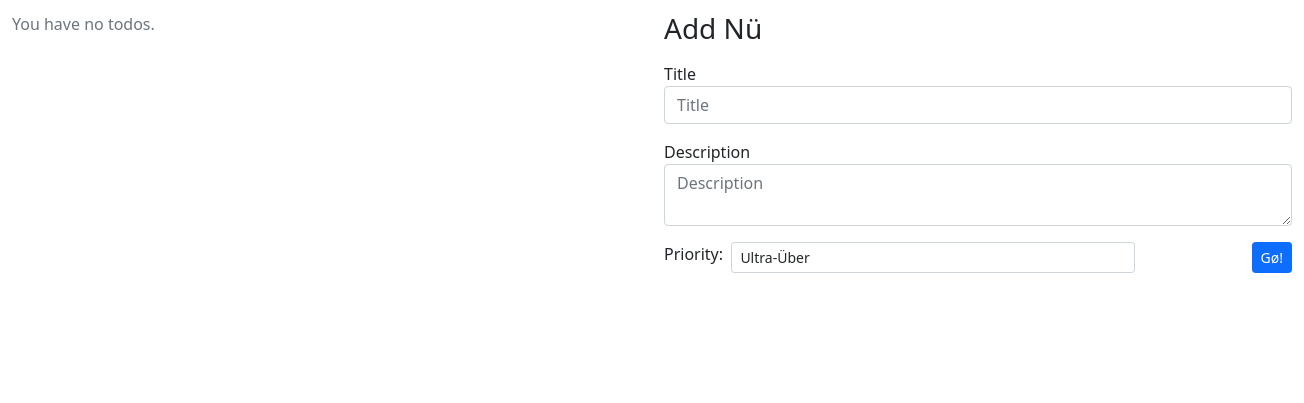
Test: TodoApp › adds new todo
Expected: the text "You have no todos." is shown, x1=12 y1=13 x2=155 y2=35
Type "New Todo" into the field labelled "Title" at (978, 105), box x1=664 y1=86 x2=1292 y2=124
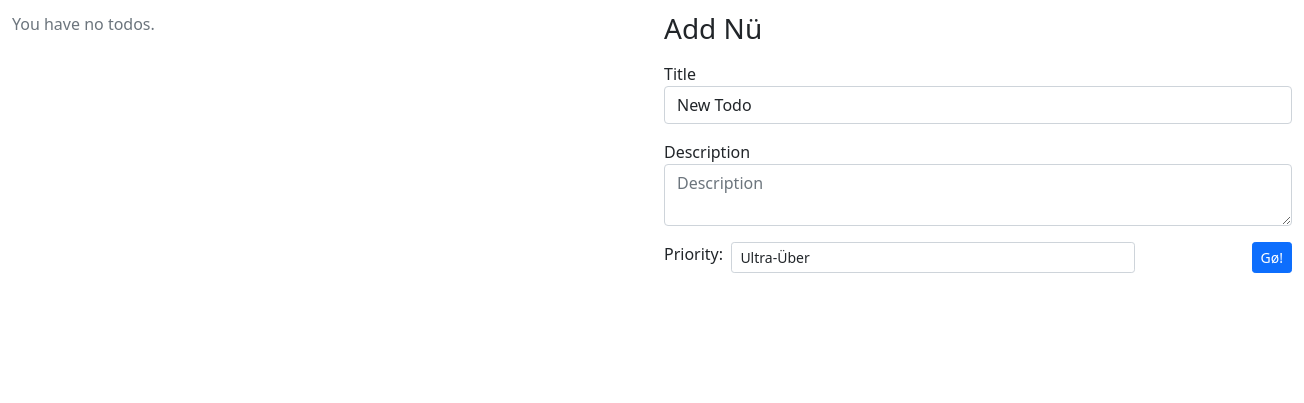
Type "New Description" into the text box labelled "Description" at (978, 195), box x1=664 y1=164 x2=1292 y2=226
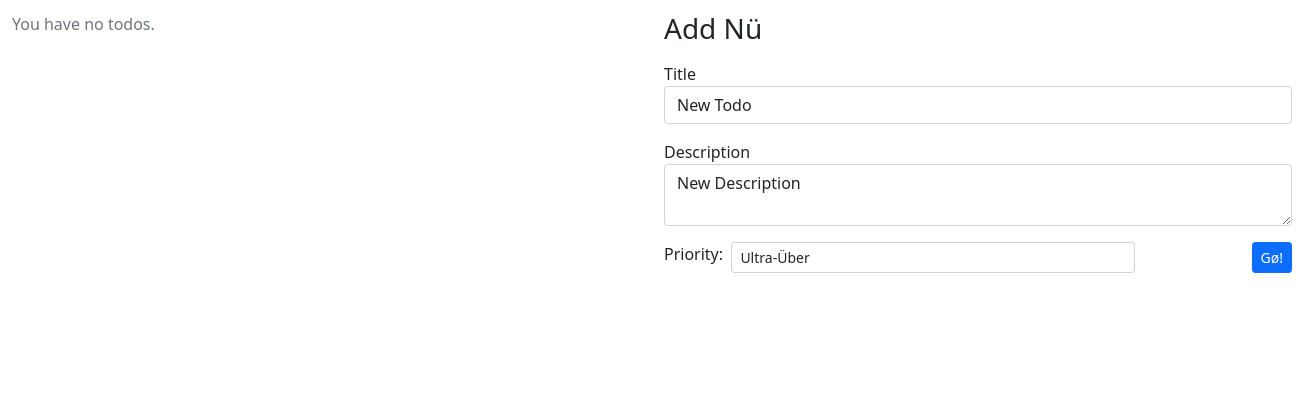
Click the button "Gø!" at (1272, 257), box x1=1252 y1=242 x2=1292 y2=273
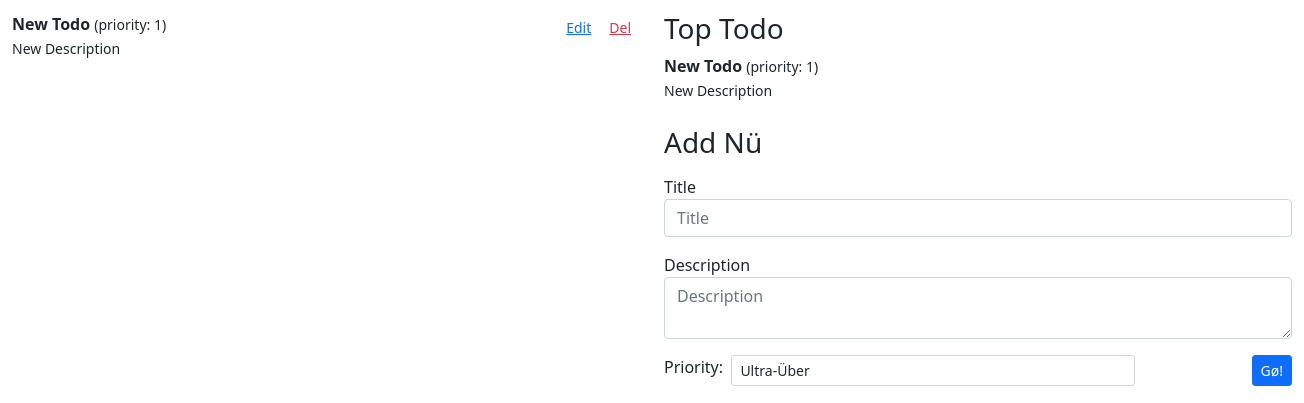
Result: the 1st text "New Todo" is shown at x1=12 y1=13 x2=90 y2=35
Result: the text "New Todo" is shown 2 times at x1=12 y1=13 x2=90 y2=35; x1=664 y1=55 x2=742 y2=77
Result: the 1st text "New Description" is shown at x1=12 y1=39 x2=120 y2=58
